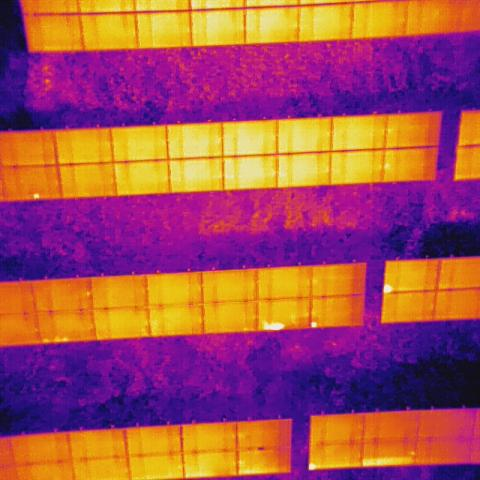fault: (361, 454, 414, 466), (260, 320, 287, 332), (382, 281, 393, 294), (307, 460, 318, 472), (309, 318, 320, 329), (32, 191, 41, 201)
